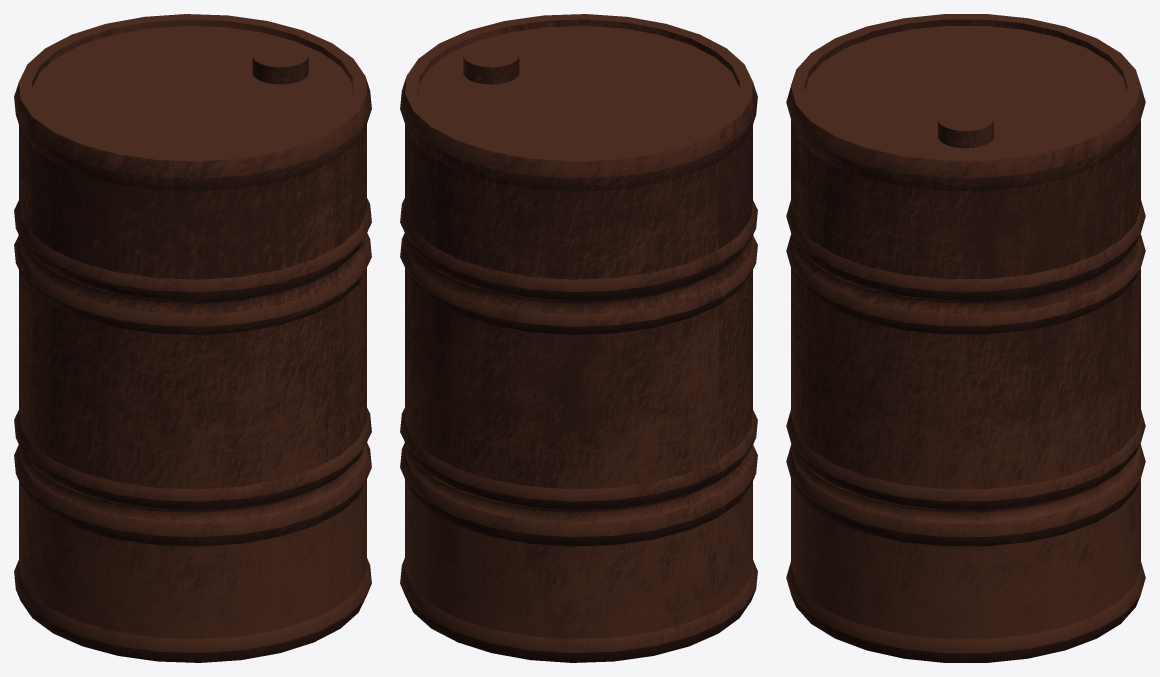
Rendered from 드럼통3.fbx.
3 renders of one model, left to right at view 1: azimuth 30°, elevation 25°; view 2: azimuth 150°, elevation 25°; view 3: azimuth 270°, elevation 25°, orthographic.
Visible parts, largest first — view 1: 드럼통3; view 2: 드럼통3; view 3: 드럼통3.
Part boxes in pixels (x1,y1,x2,y2): 드럼통3: [14, 14, 371, 662]; 드럼통3: [400, 14, 757, 662]; 드럼통3: [786, 14, 1145, 662].
Size of the model in its own units: 81.27 by 129 by 81.87.
1 material, 1 textured.
